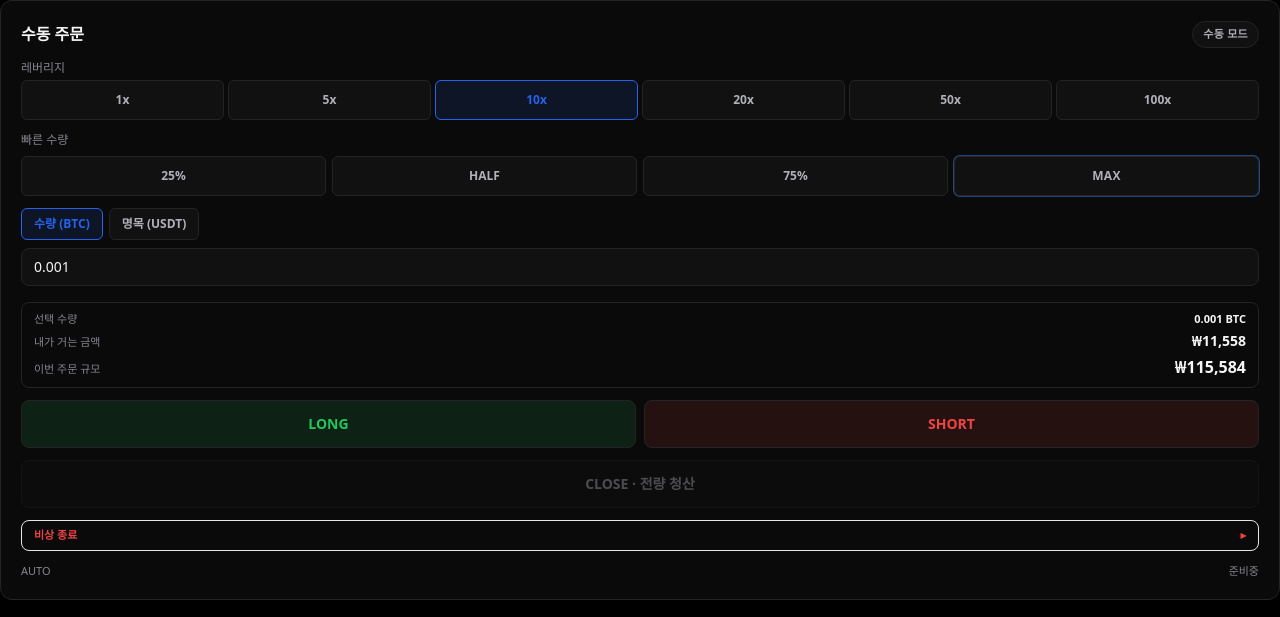
Test case: quick position size › keeps the selected quantity visible at all times, typed or preset
In the field named "주문 크기": (640, 266) left=21, top=248, right=1259, bottom=286, type "0.002"
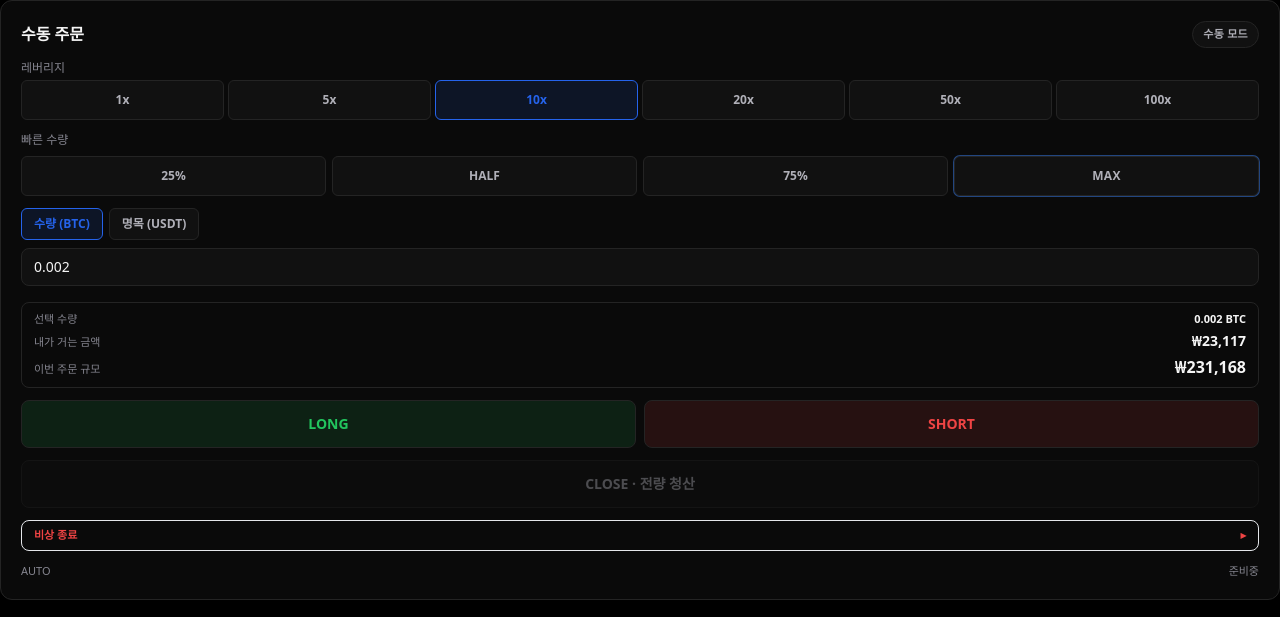
Now the text with test id "paper-order-amount-qty" reads "0.002 BTC", box left=1194, top=310, right=1246, bottom=326
Click the button with test id "preset-75%": (796, 176) left=643, top=156, right=948, bottom=196
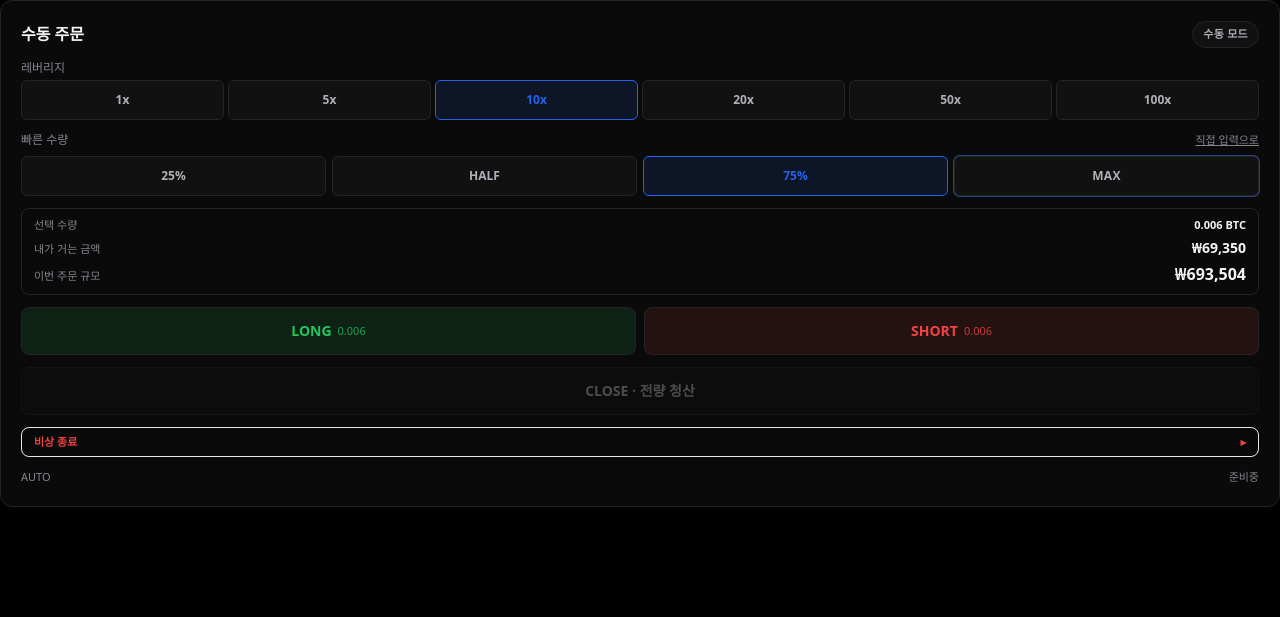
Now the text with test id "paper-order-amount-qty" reads "0.006 BTC", box left=1194, top=217, right=1246, bottom=232
